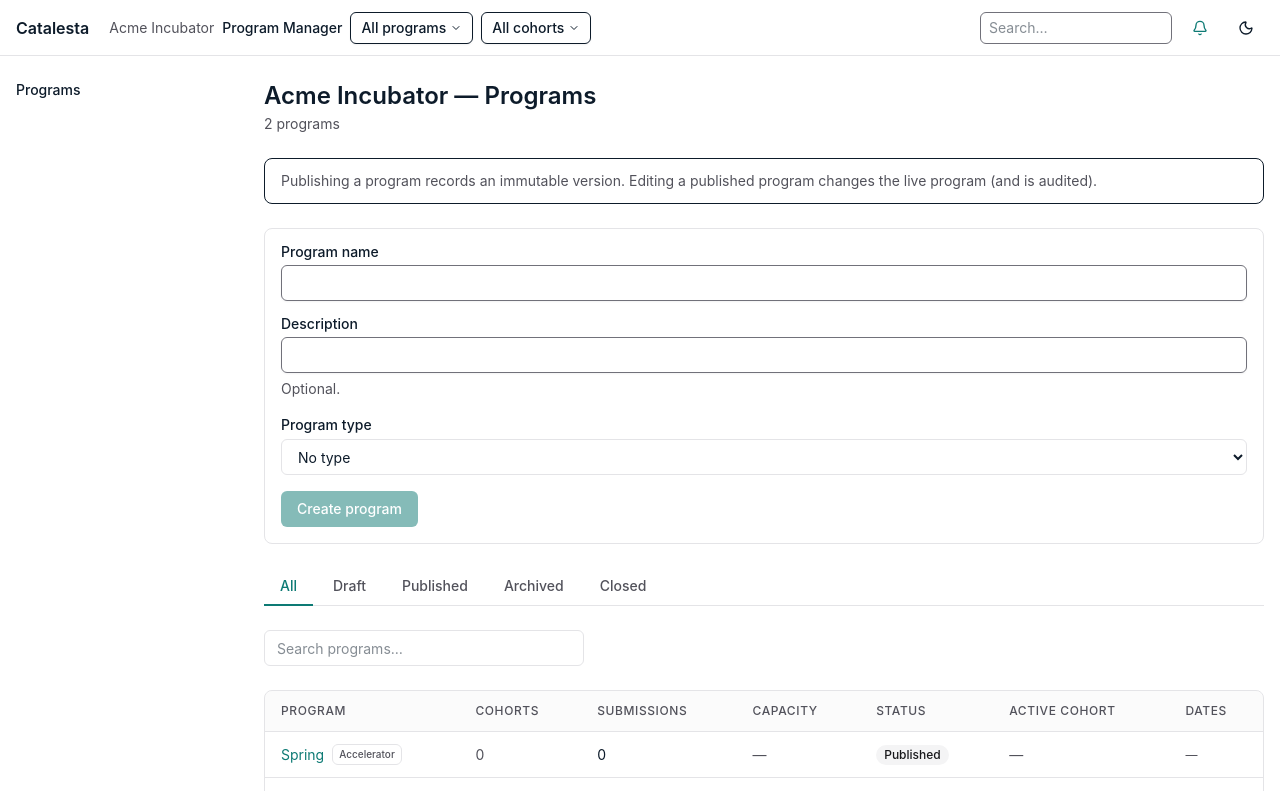
filters by status tab
Expected: the text "Spring" is shown, [281, 746, 324, 762]
Click the tab "Draft".
click(350, 587)  # box [317, 568, 382, 606]
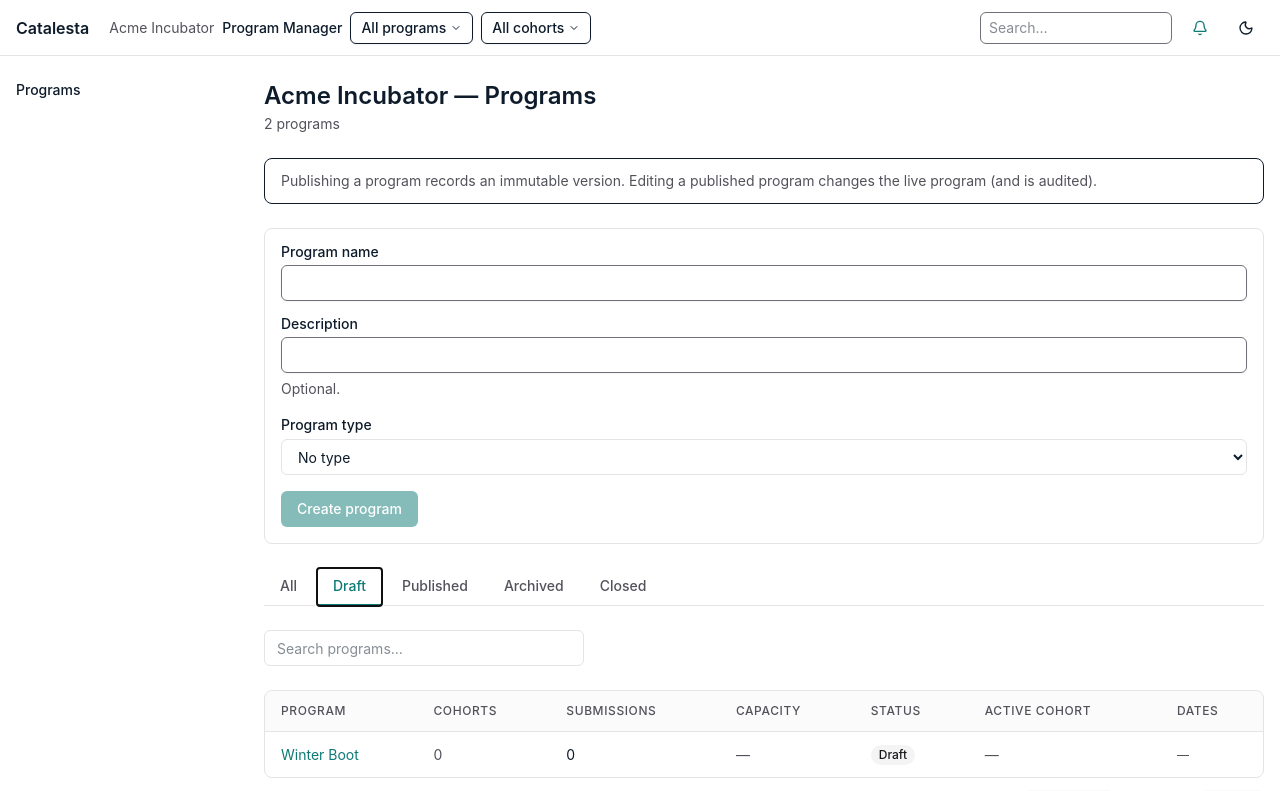
Result: the link "Spring" is gone
